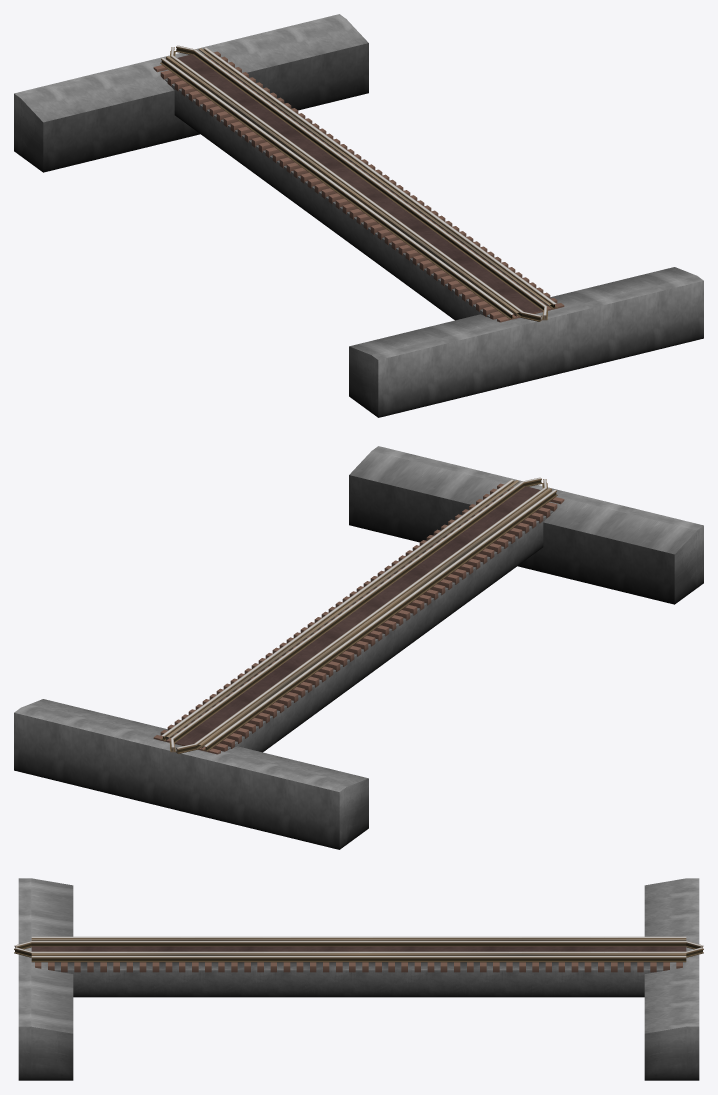
The model's file is MEI_1RAIL_BRIDGE50_NOBANISTER.glb.
3 views of the same model, one above another, from view 1: azimuth 30°, elevation 25°; view 2: azimuth 150°, elevation 25°; view 3: azimuth 270°, elevation 25° (orthographic). The views are drawn at different scales.
Visible parts, largest first — view 1: obj6, obj16, obj3, obj8, obj10, obj9, obj11, obj5, obj4, obj12, bone0; view 2: obj3, obj16, obj6, obj8, obj10, obj11, obj9, obj5, bone0, obj12, obj4; view 3: obj16, obj3, obj6, obj10, obj8, obj9, obj12, obj11, obj5, obj4, bone0.
Part boxes in pixels (<box>): obj6: <box>349,267,703,417</box>; obj16: <box>160,47,557,320</box>; obj3: <box>14,14,368,172</box>; obj8: <box>237,113,347,168</box>; obj10: <box>412,241,522,296</box>; obj9: <box>328,179,431,229</box>; obj11: <box>286,149,389,198</box>; obj5: <box>370,210,473,260</box>; obj4: <box>462,277,564,322</box>; obj12: <box>195,82,298,132</box>; bone0: <box>153,51,255,101</box>; obj3: <box>14,699,368,849</box>; obj16: <box>160,479,557,752</box>; obj6: <box>349,446,703,604</box>; obj8: <box>237,642,347,697</box>; obj10: <box>412,514,522,569</box>; obj11: <box>286,611,389,661</box>; obj9: <box>328,581,431,630</box>; obj5: <box>370,550,473,600</box>; bone0: <box>153,709,255,754</box>; obj12: <box>195,678,298,728</box>; obj4: <box>462,483,564,533</box>; obj16: <box>31,936,686,997</box>; obj3: <box>644,878,703,1080</box>; obj6: <box>14,878,73,1080</box>; obj10: <box>113,962,198,972</box>; obj8: <box>440,962,525,972</box>; obj9: <box>283,962,355,972</box>; obj12: <box>532,962,604,972</box>; obj11: <box>362,962,434,972</box>; obj5: <box>205,962,276,972</box>; obj4: <box>35,962,106,972</box>; bone0: <box>611,962,682,972</box>.
Size of the model in its own units: 26.82 by 5.05 by 52.7.
17 materials, 14 textured.
